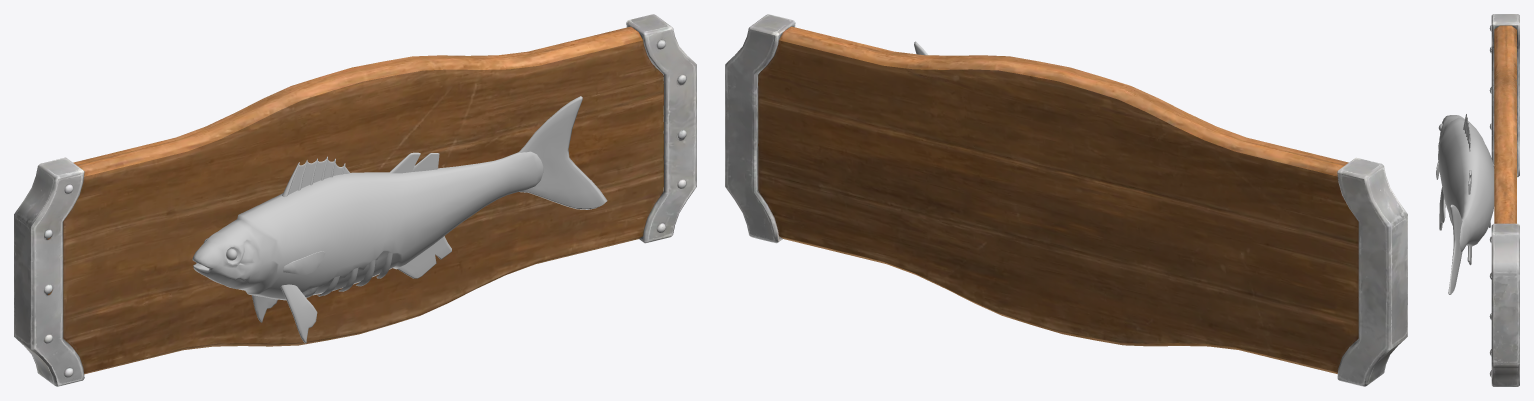
3 views of the same model, side by side, from view 1: azimuth 30°, elevation 25°; view 2: azimuth 150°, elevation 25°; view 3: azimuth 270°, elevation 25° (orthographic). The views are drawn at different scales.
Parts seen in each view (by area): view 1: SM_Trophy_Plaque_Undead_Bass_01_LOD0; view 2: SM_Trophy_Plaque_Undead_Bass_01_LOD0; view 3: SM_Trophy_Plaque_Undead_Bass_01_LOD0.
Boxes of the visible parts, left/top/right/bottom form: SM_Trophy_Plaque_Undead_Bass_01_LOD0: left=14, top=14, right=696, bottom=386; SM_Trophy_Plaque_Undead_Bass_01_LOD0: left=725, top=14, right=1407, bottom=386; SM_Trophy_Plaque_Undead_Bass_01_LOD0: left=1436, top=14, right=1519, bottom=386.
Bounding box in the file's own units: 1.48 × 0.5529 × 0.2204.
